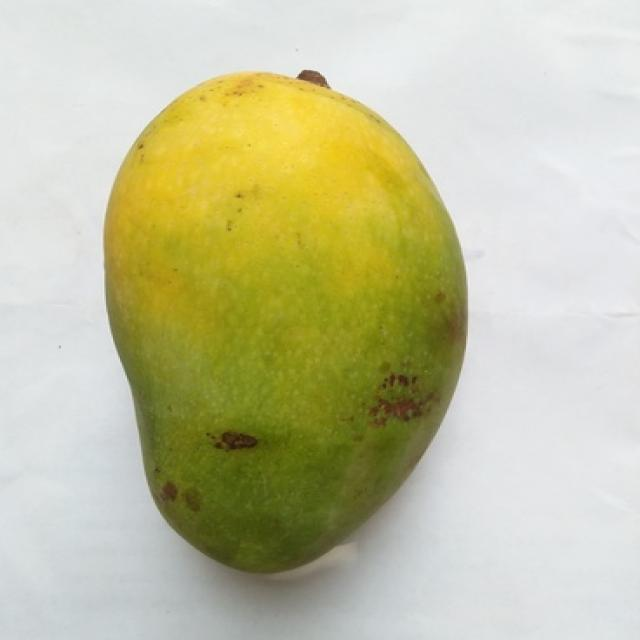Mango: (106, 73, 466, 572)
